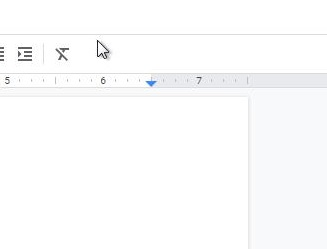cursor: (93, 36, 111, 63)
